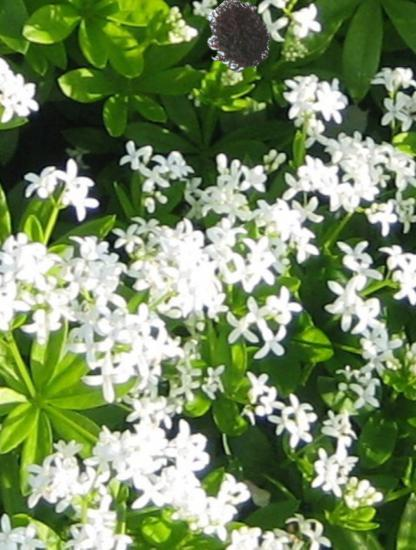Rambutan: (202, 1, 273, 72)
